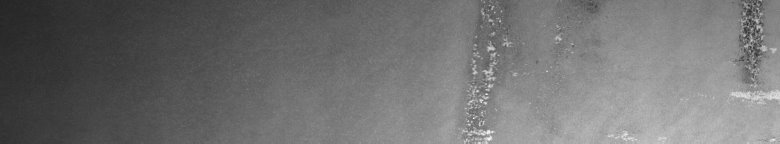hc: (462, 4, 628, 136)
